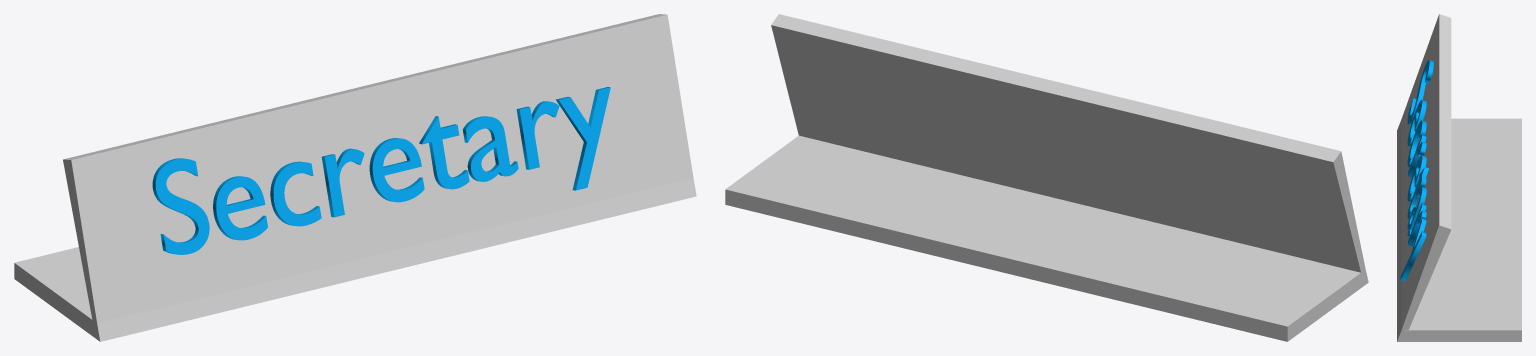
File: secretary sign.fbx
3 renders of one model, left to right at view 1: azimuth 30°, elevation 25°; view 2: azimuth 150°, elevation 25°; view 3: azimuth 270°, elevation 25°, orthographic. The views are drawn at different scales.
Parts seen in each view (by area): view 1: Cube, Text; view 2: Cube; view 3: Cube, Text.
Part boxes in pixels (x1,y1,x2,y2): Cube: [14, 14, 696, 341]; Text: [152, 87, 610, 254]; Cube: [725, 14, 1368, 341]; Cube: [1397, 14, 1521, 341]; Text: [1400, 60, 1433, 281].
Size of the model in its own units: 800 by 206 by 200.
